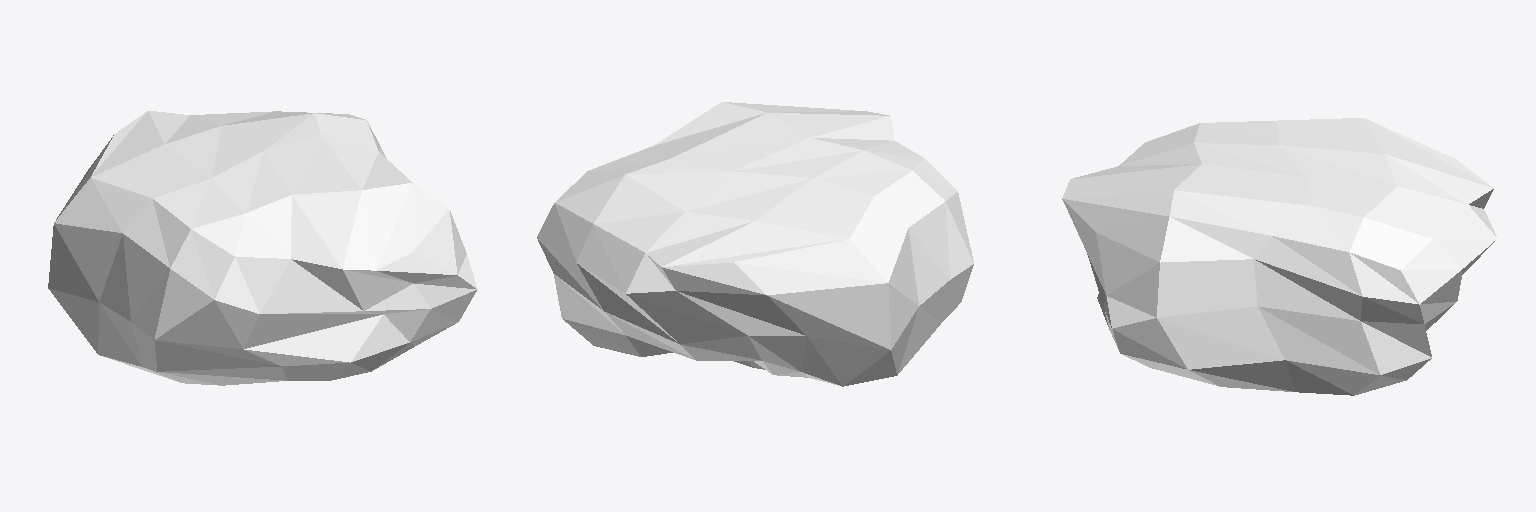
Rendered from Rock.obj.
3 views of the same model, side by side, from view 1: azimuth 30°, elevation 25°; view 2: azimuth 150°, elevation 25°; view 3: azimuth 270°, elevation 25° (orthographic).
Visible parts, largest first — view 1: rock; view 2: rock; view 3: rock.
Boxes of the visible parts, <box> form: rock: <box>48,111,477,385</box>; rock: <box>537,102,973,386</box>; rock: <box>1062,118,1497,395</box>.
Size of the model in its own units: 3.18 by 1.68 by 3.63.